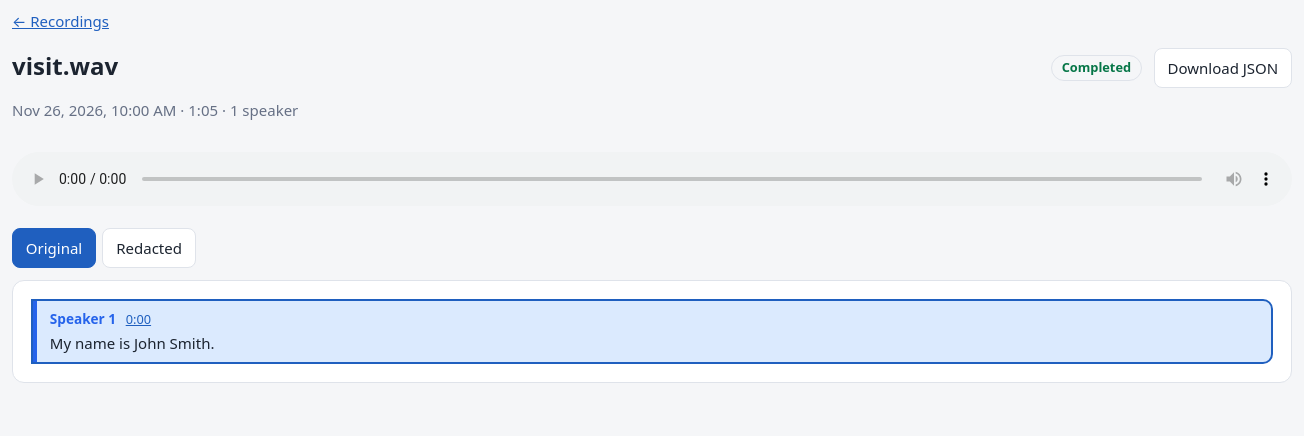
Test case: Transcript page: redaction › admins can switch between the original and redacted text
Expected: the text "My name is John Smith." is shown, [50,333,214,353]
Click the button "Redacted" at (149, 248), box [102,228,196,268]
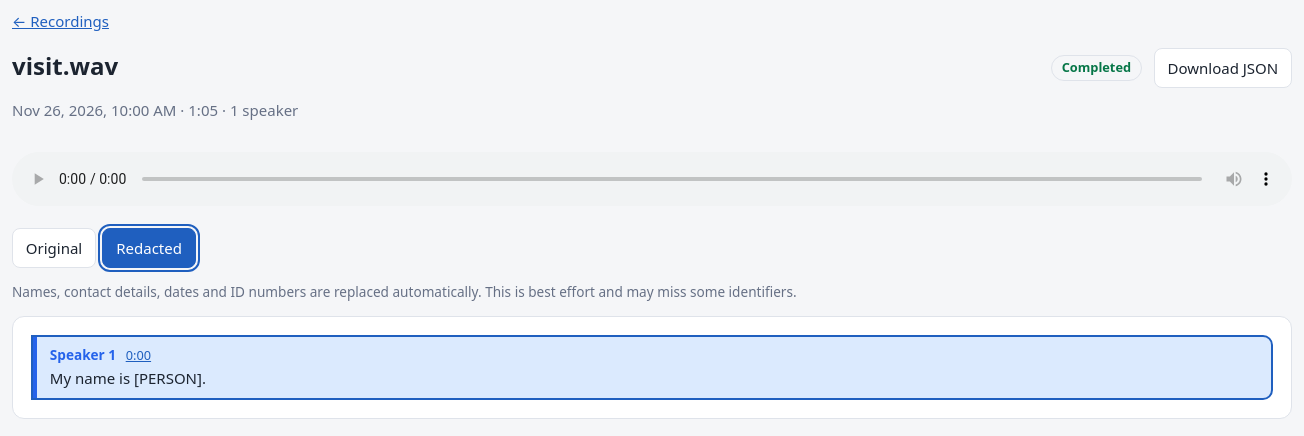
Expected: the text "My name is [PERSON]." is shown, [50,368,206,388]
Expected: the text "My name is John Smith." is gone
Expected: the text "best effort" is shown, [12,282,797,301]
Click the button "Original" at (54, 248), box [12,228,96,268]
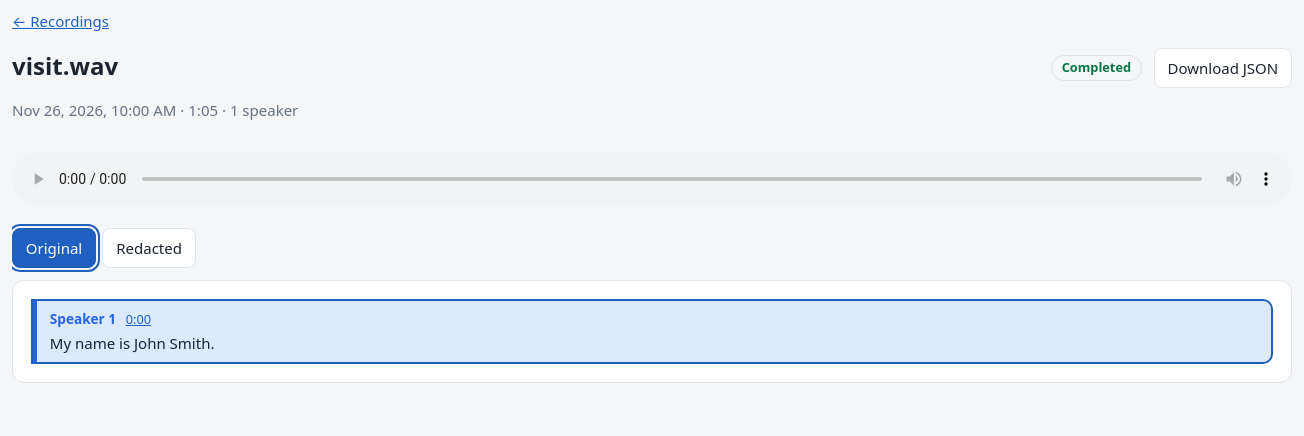
Expected: the text "My name is John Smith." is shown, [50,333,214,353]
